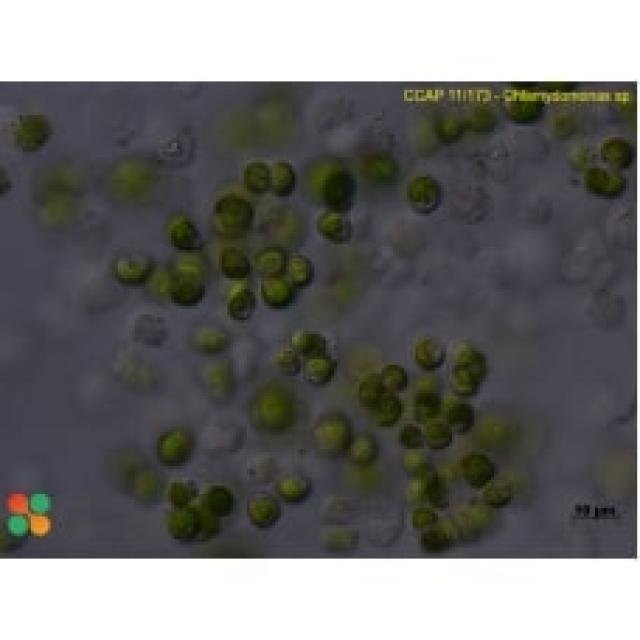Green Algae: (8, 104, 51, 157), (208, 188, 258, 225), (154, 424, 197, 466), (244, 483, 284, 528), (314, 202, 356, 244), (581, 163, 629, 199), (458, 443, 500, 483), (160, 499, 196, 542), (407, 174, 441, 219), (222, 281, 258, 323), (266, 154, 298, 200), (477, 474, 519, 508), (458, 339, 491, 382), (166, 267, 202, 306), (258, 275, 298, 309), (314, 415, 348, 455), (410, 334, 446, 371), (199, 483, 236, 519), (300, 354, 340, 387), (278, 472, 320, 502), (435, 104, 463, 143), (601, 138, 637, 166), (166, 222, 205, 247), (292, 326, 326, 354), (466, 104, 500, 132), (222, 250, 252, 281), (171, 474, 197, 508), (118, 250, 149, 278), (351, 435, 379, 466), (410, 469, 435, 502), (241, 157, 267, 188), (286, 258, 314, 286), (258, 247, 289, 272), (449, 402, 477, 429), (194, 505, 216, 539), (424, 418, 452, 444), (382, 362, 407, 385), (359, 376, 379, 404), (376, 396, 396, 424), (455, 362, 474, 390), (407, 511, 432, 528)
